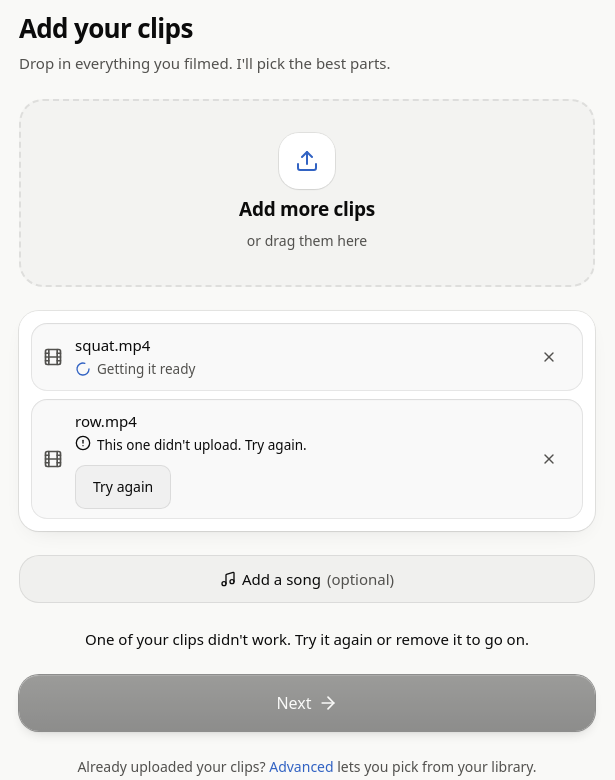
Next waits while a clip has a problem, and says why in a sentence
Earlier steps of the test are not shown.
Expected: the button "Next" is disabled, [19,674,595,730]
Click the button named "Remove row.mp4" at (549, 458), box [527,436,571,480]
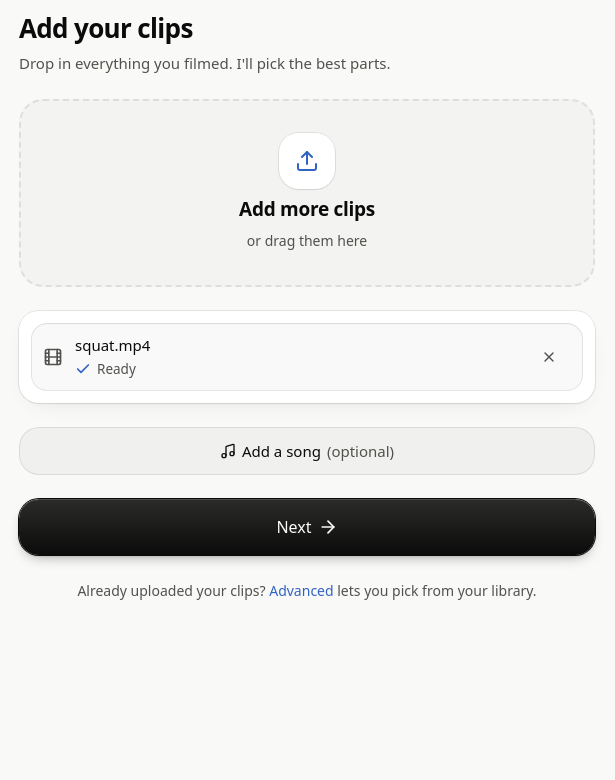
Expected: the button "Next" is enabled, [19,498,595,554]
